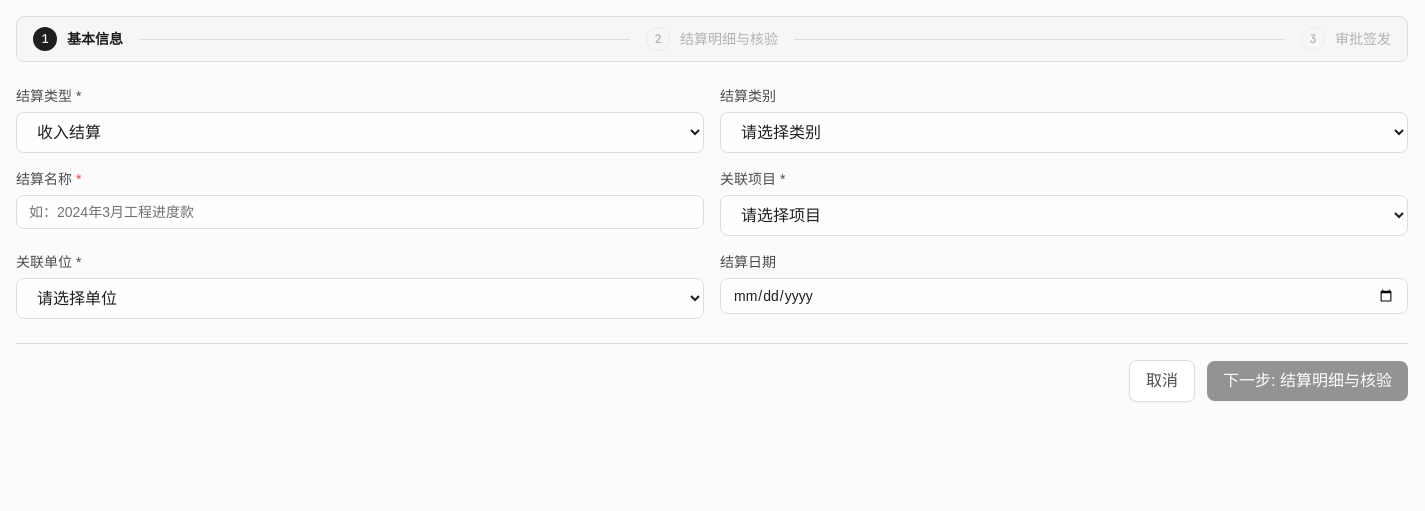
Test: SettlementForm (S20) › 填齐必填项后可进入第 2 步，显示自动核验区（尚未录入明细）
The image size is (1425, 511).
Step 1. Type "3月进度款结算" into the field with placeholder "如：2024年3月工程进度款" → (360, 212), box [16, 195, 704, 229]
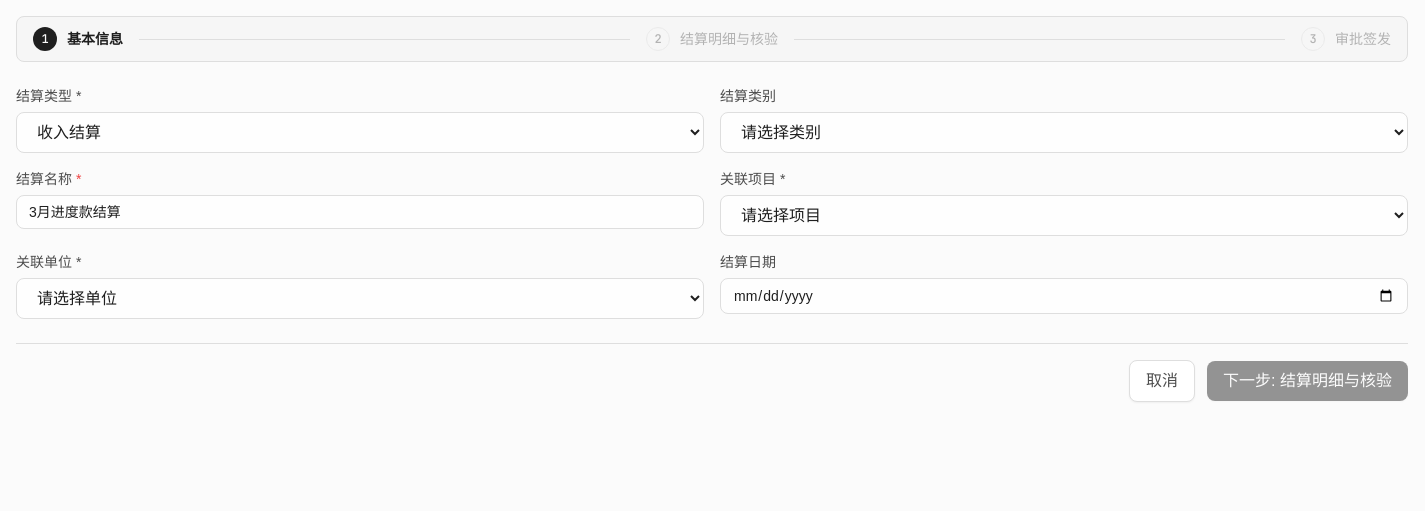
Step 2. Select "测试项目" in the dropdown below "关联项目 *" → (1064, 216), box [720, 195, 1408, 236]
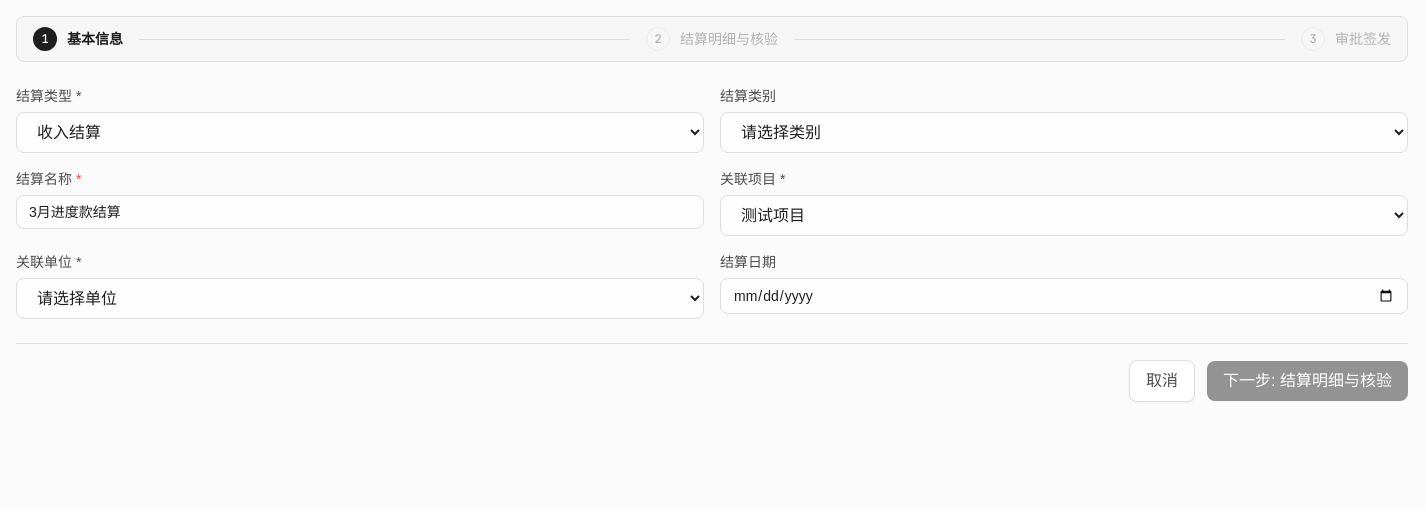
Step 3. Select "测试单位" in the dropdown below "关联单位 *" → (360, 298), box [16, 278, 704, 319]
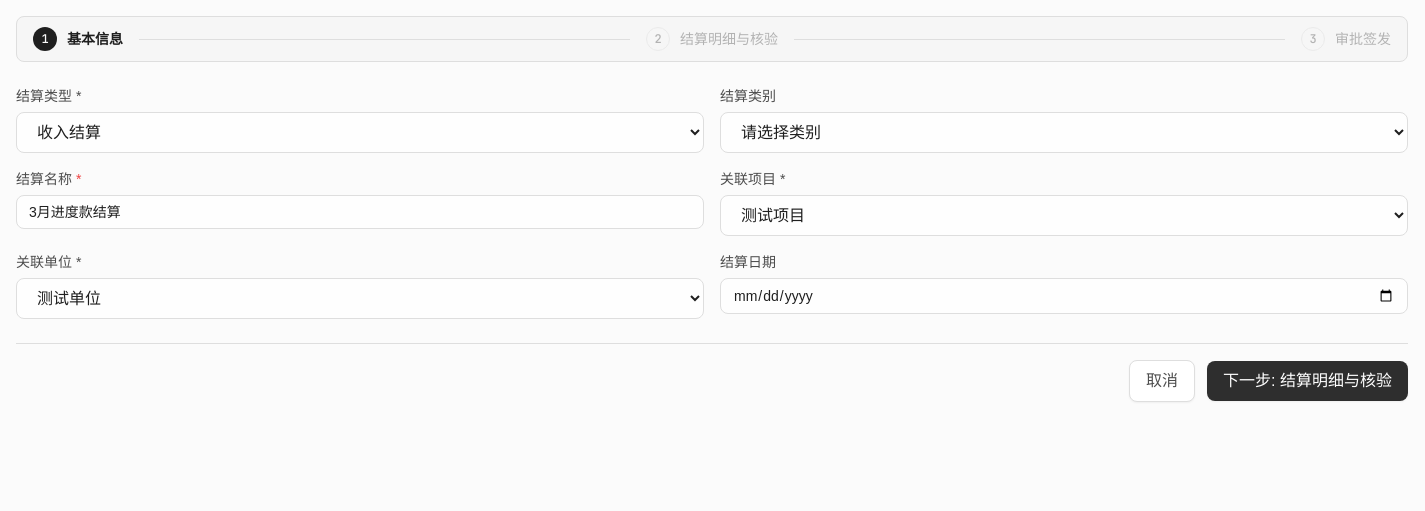
Check: the button "下一步: 结算明细与核验" is enabled
Step 4. Click the button "下一步: 结算明细与核验" → click(1308, 381), box [1207, 361, 1408, 401]
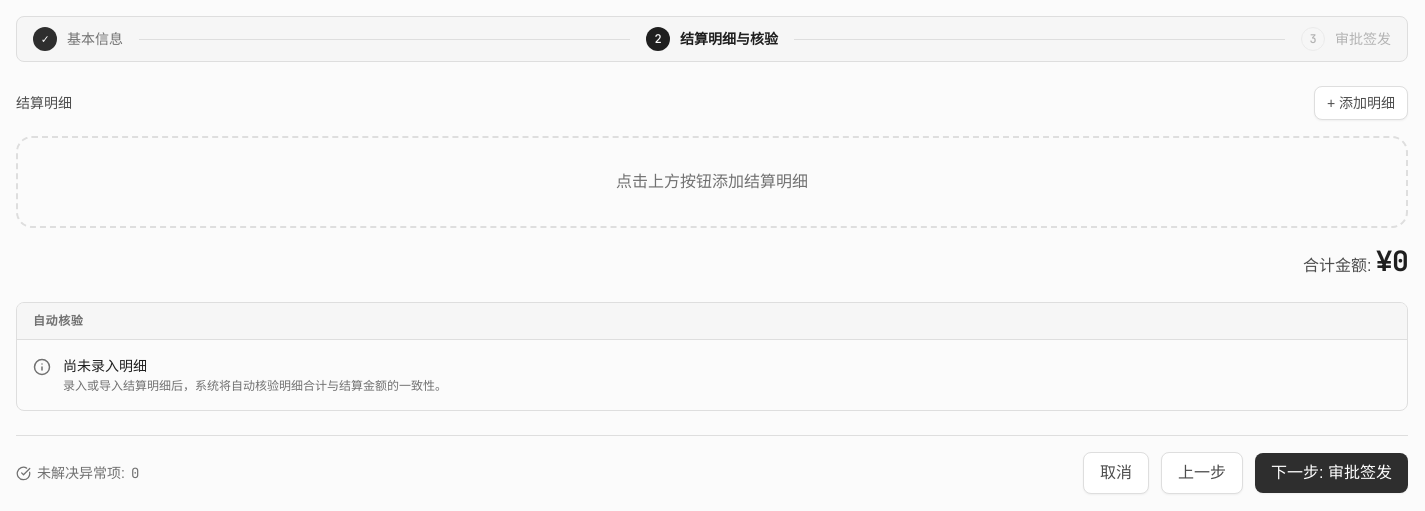
Check: the text "自动核验" is shown, box [17, 303, 1407, 340]
Check: the text "尚未录入明细" is shown, box [63, 358, 147, 374]
Check: the text "未解决异常项: 0" is shown, box [16, 463, 139, 483]
